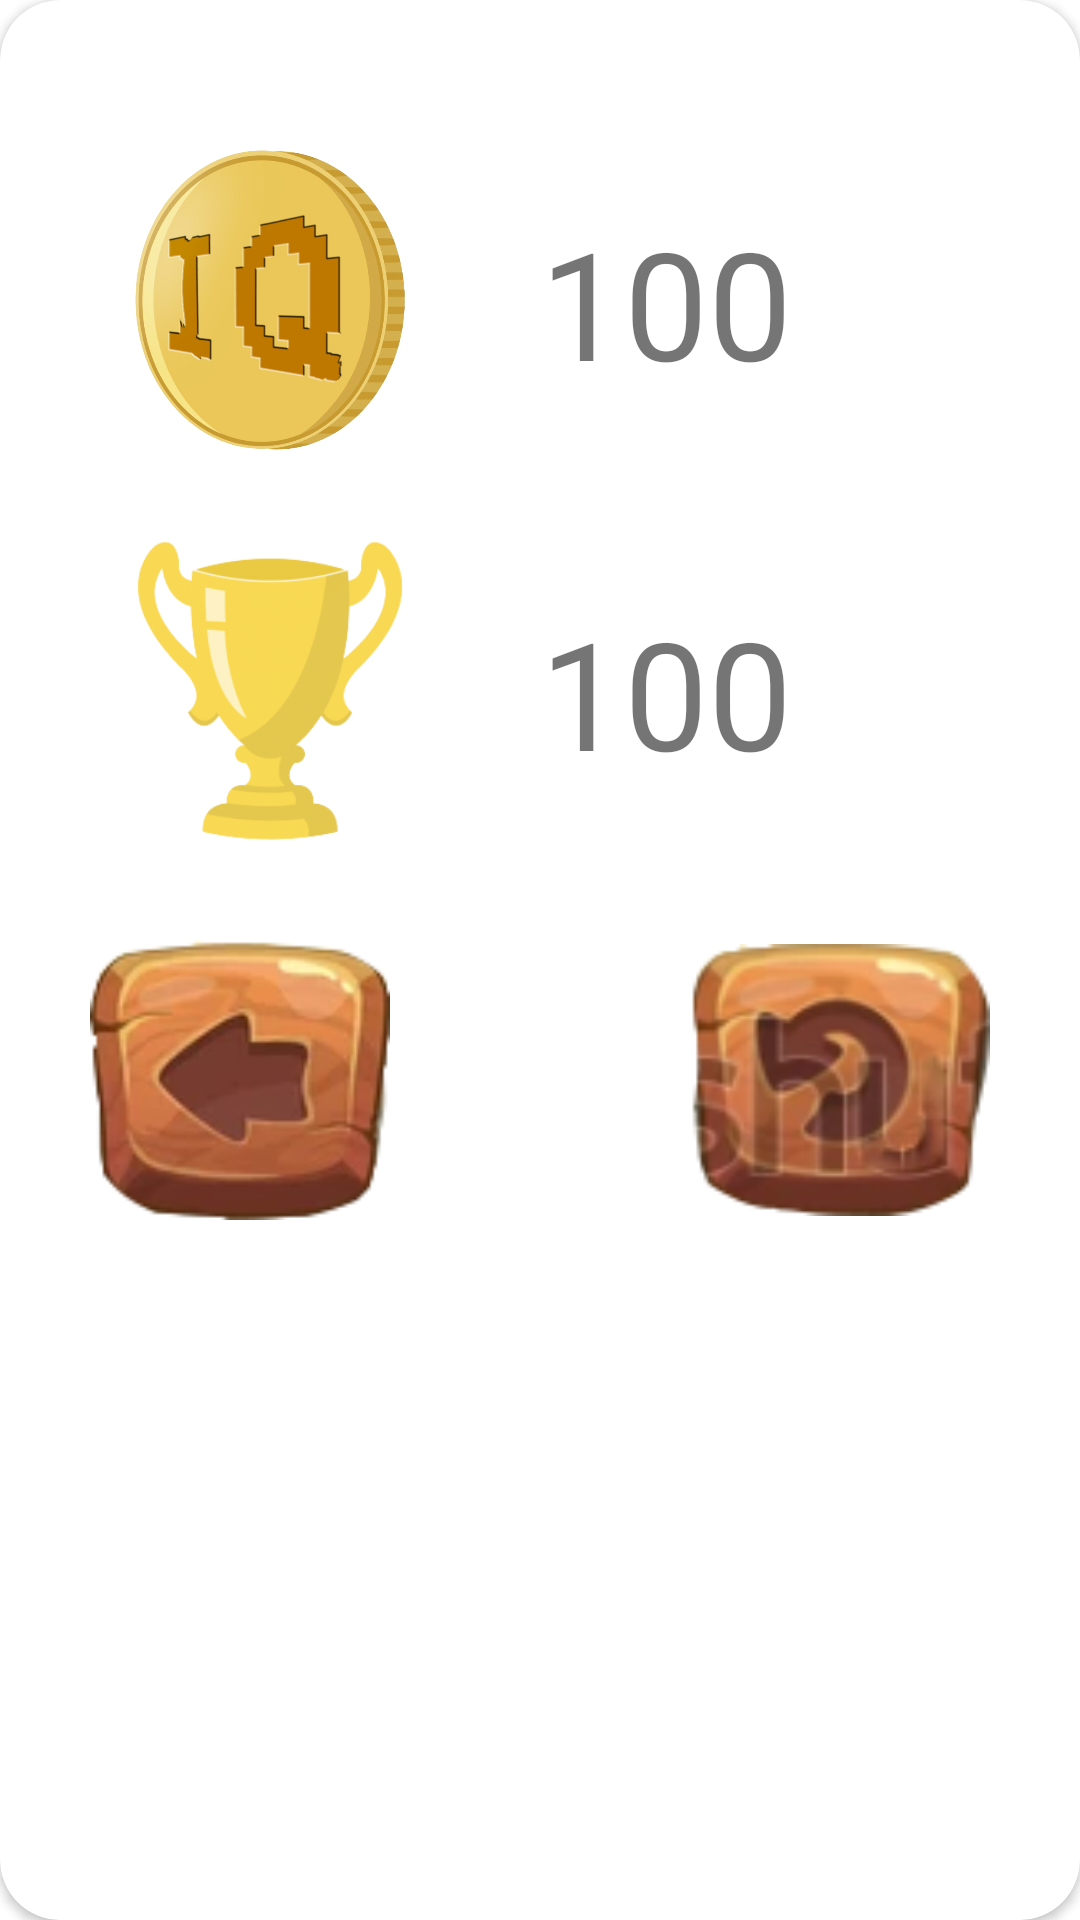

Named icons in this screenshot (1080*1920) and their centers, (x,y):
back: (240,1080)
glory: (270,691)
iq coin: (270,300)
replay: (841,1080)
